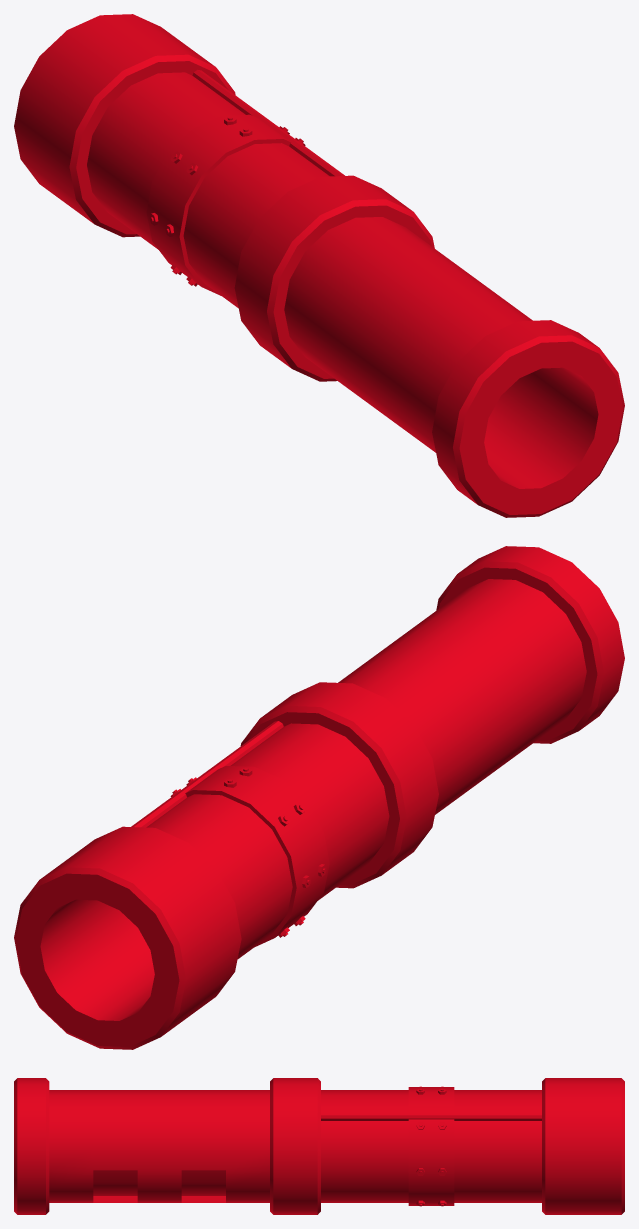
File: Bazooka.fbx
3 views of the same model, one above another, from view 1: azimuth 30°, elevation 25°; view 2: azimuth 150°, elevation 25°; view 3: azimuth 270°, elevation 25° (orthographic). The views are drawn at different scales.
Visible parts, largest first — view 1: Circle.002; view 2: Circle.002; view 3: Circle.002.
Boxes of the visible parts, x1,y1,x2,y2 form: Circle.002: (14,14,624,517); Circle.002: (14,546,624,1049); Circle.002: (14,1078,624,1214).
Size of the model in its own units: 1.15 by 5.12 by 1.15.
